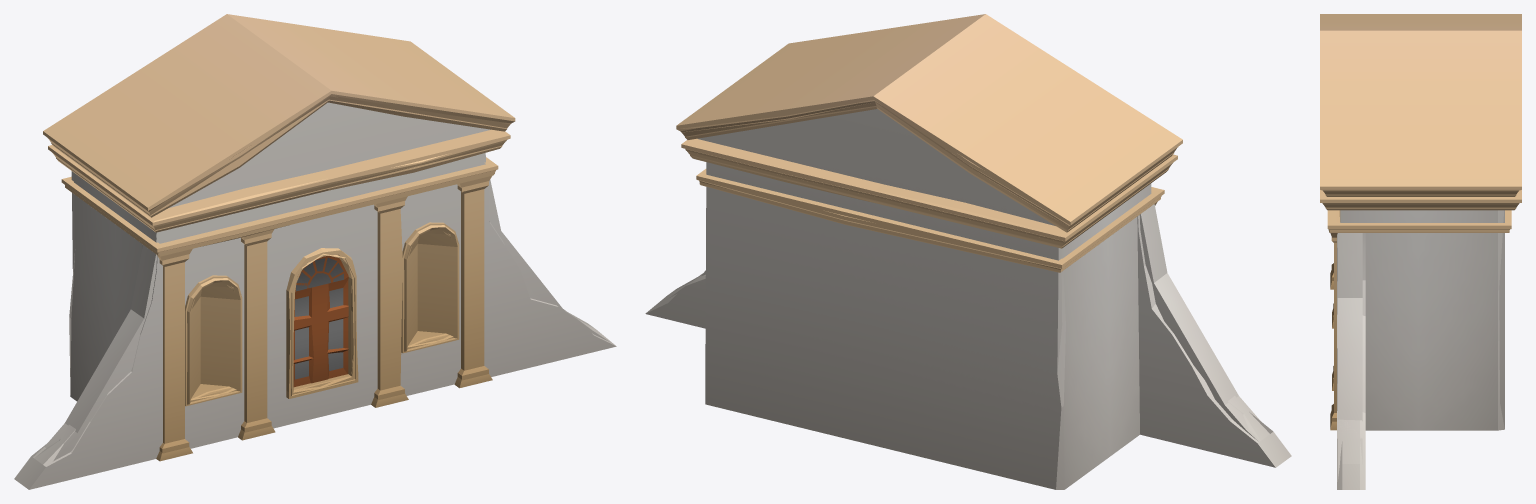
The model's file is Hall Front 01.fbx.
3 renders of one model, left to right at view 1: azimuth 30°, elevation 25°; view 2: azimuth 150°, elevation 25°; view 3: azimuth 270°, elevation 25°, orthographic. The views are drawn at different scales.
Parts seen in each view (by area): view 1: Hall Front 01 high, Hall Front 01, Hall Front 01 low; view 2: Hall Front 01, Hall Front 01 high, Hall Front 01 low; view 3: Hall Front 01, Hall Front 01 high, Hall Front 01 low.
Part boxes in pixels (x1,y1,x2,y2): Hall Front 01 high: [14, 91, 616, 489]; Hall Front 01: [16, 14, 591, 489]; Hall Front 01 low: [44, 96, 609, 461]; Hall Front 01: [670, 14, 1278, 489]; Hall Front 01 high: [645, 96, 1291, 489]; Hall Front 01 low: [673, 102, 1260, 434]; Hall Front 01: [1320, 14, 1521, 458]; Hall Front 01 high: [1320, 186, 1521, 489]; Hall Front 01 low: [1324, 191, 1517, 481].
Size of the model in its own units: 10.88 by 5.9 by 3.36.
Materials: 1 (1 with a texture image).
